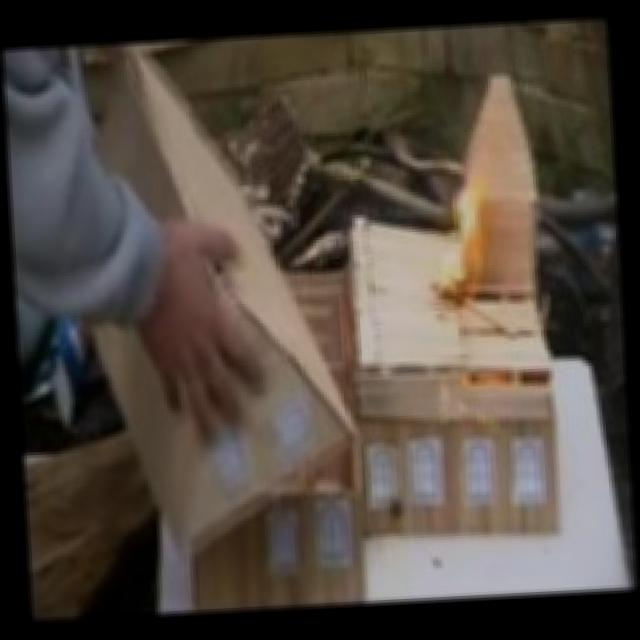fire: (432, 178, 509, 300)
